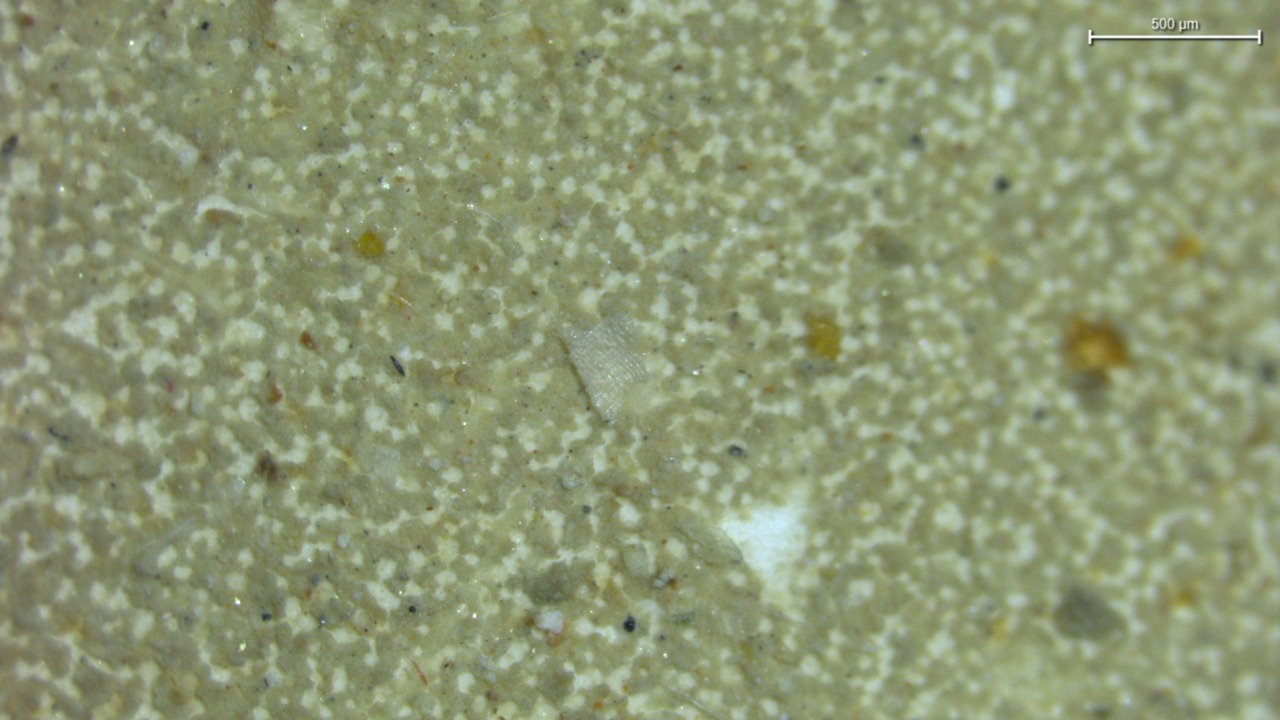microplastic_fragment: (562, 312, 648, 421)
